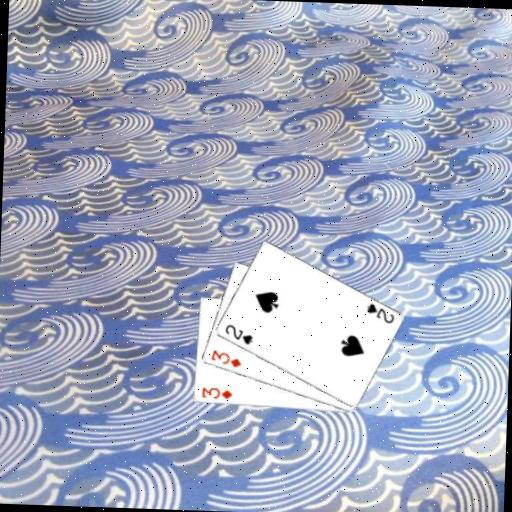2S: (221, 321, 254, 346), (363, 300, 396, 325)
3D: (207, 346, 243, 369), (198, 383, 234, 400)
